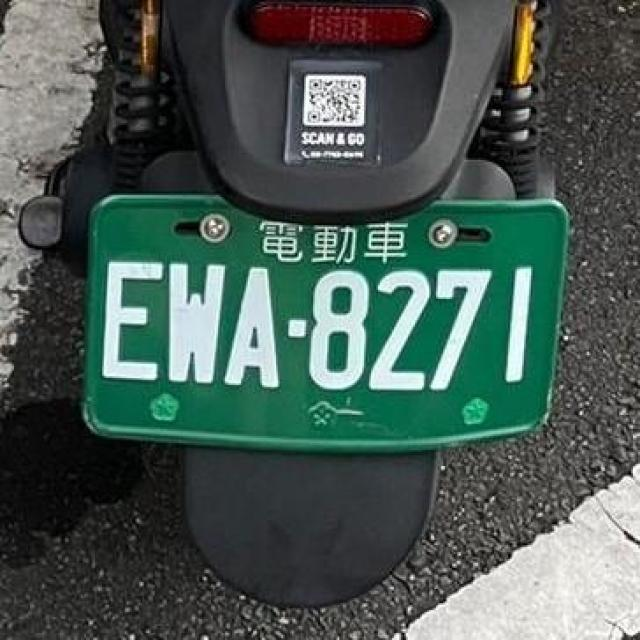GW: (76, 177, 559, 482)
